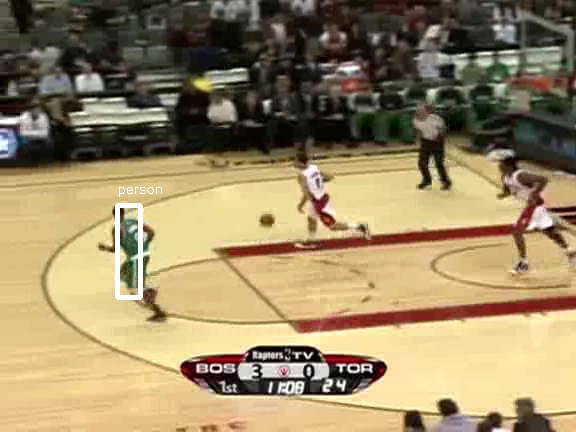person: (118, 212, 152, 293), (117, 212, 151, 293), (119, 212, 153, 293), (118, 211, 152, 292), (118, 213, 152, 294)
target_negative: (161, 35, 481, 400), (283, 45, 342, 352), (524, 58, 573, 287), (94, 223, 576, 237), (446, 303, 484, 427), (13, 307, 65, 316)
